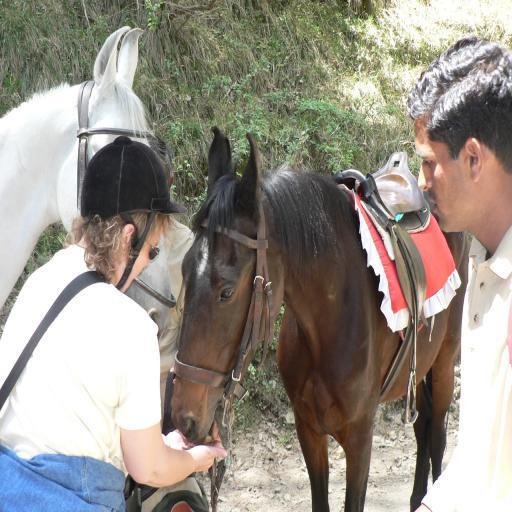horse: (170, 122, 472, 512), (0, 24, 173, 346)
